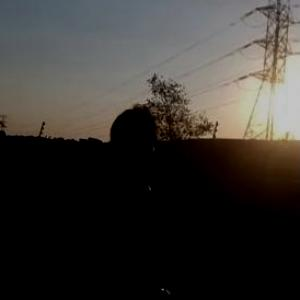follow: (60, 96, 200, 299)
